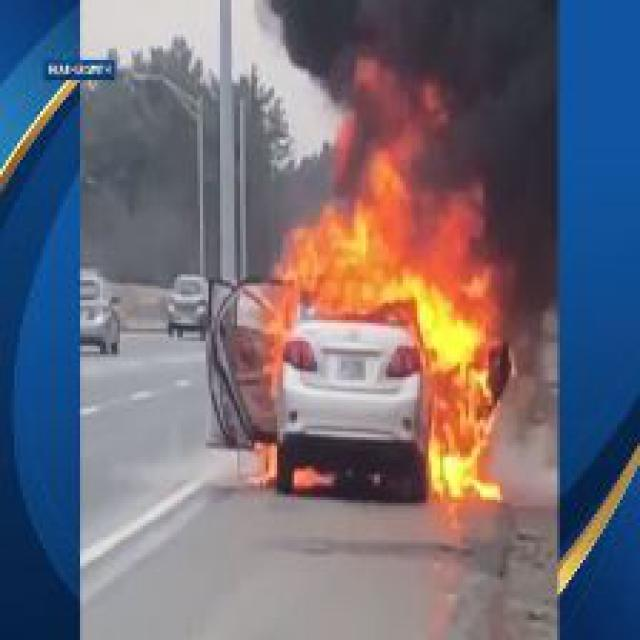fire: (248, 63, 512, 488)
